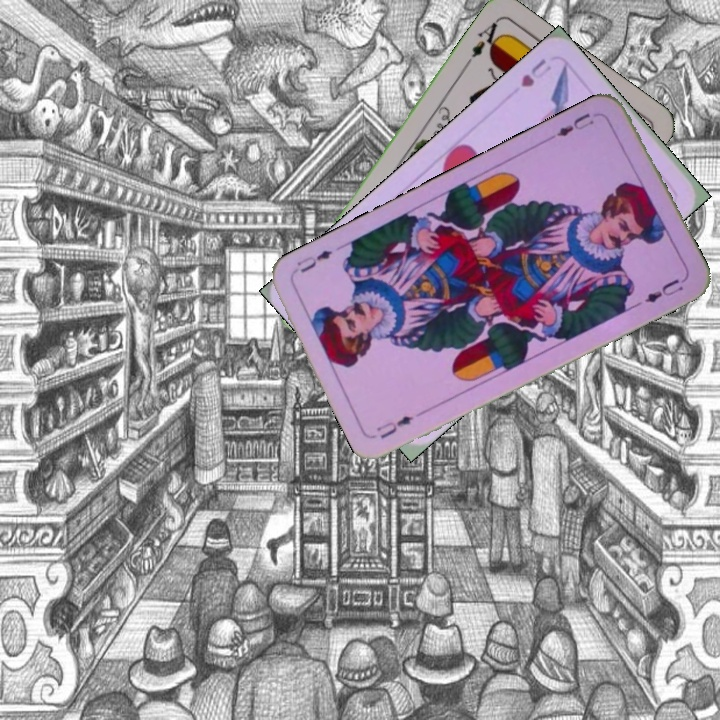EA: (467, 17, 505, 60)
EU: (547, 109, 597, 143), (373, 411, 416, 442)
HU: (516, 54, 554, 90)
